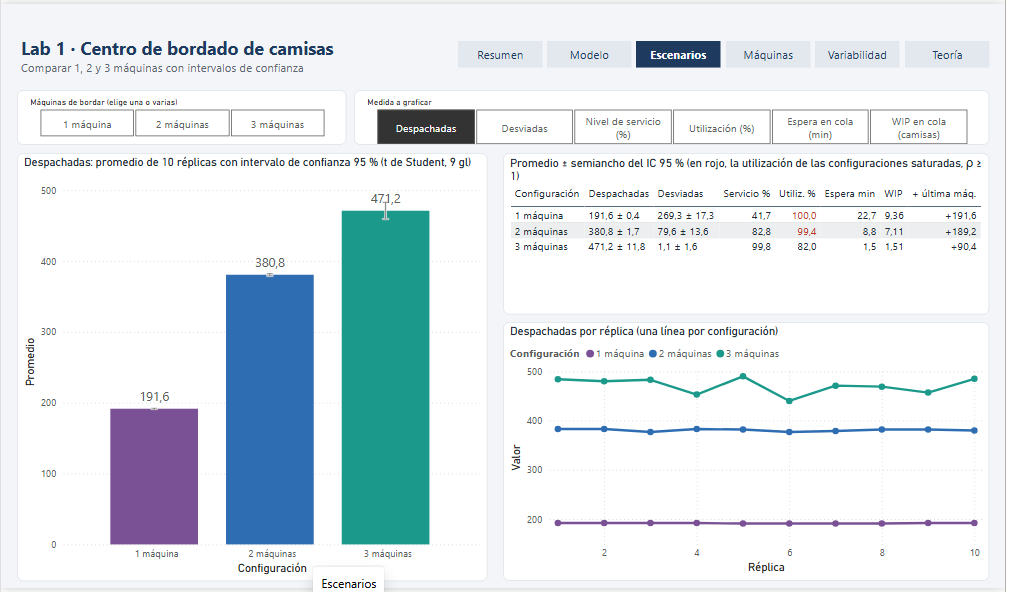

This screenshot's page, from the dashboard's own definition file:
{"tool":"powerbi","page":{"name":"Escenarios","canvas":[1280,720],"ordinal":2},"visuals":[{"type":"textbox","box":[20,10,520,62],"z":1000},{"type":"actionButton","box":[582,22,108,34],"z":2000},{"type":"actionButton","box":[696,22,108,34],"z":3000},{"type":"actionButton","box":[810,22,108,34],"z":4000},{"type":"actionButton","box":[924,22,108,34],"z":5000},{"type":"actionButton","box":[1038,22,108,34],"z":6000},{"type":"actionButton","box":[1152,22,108,34],"z":7000},{"type":"slicer","fields":{"Values":["Resultados.Configuracion"]},"box":[20,84,420,70],"z":8000},{"type":"slicer","fields":{"Values":["Medida.Medida"]},"box":[450,84,810,70],"z":9000},{"type":"clusteredColumnChart","fields":{"Category":["Resultados.Configuracion"],"Y":["Resultados.Valor medida"]},"box":[20,164,600,546],"z":10000},{"type":"tableEx","title":"Promedio ± semiancho del IC 95 % (en rojo, la utilización de las configuraciones saturadas, ρ ≥ 1)","fields":{"Values":["Resultados.Configuracion","Resultados.IC Despachadas","Resultados.IC Desviadas","Resultados.Prom Nivel servicio","Resultados.Prom Utilizacion_pct","Resultados.Prom Espera cola","Resultados.Prom WIP cola","Resultados.Aporte marginal"]},"box":[640,164,620,206],"z":11000},{"type":"lineChart","fields":{"Category":["Resultados.Replica"],"Y":["Resultados.Valor medida"],"Series":["Resultados.Configuracion"]},"box":[640,380,620,330],"z":12000}]}

Visuals, with their boxes on the page's 1280x720 design canvas (x1, y1, x2, y2). These are canvas units, not pixel positions in the 1010x592 screenshot, which may show the page scaled, cropped or inside an application window:
textbox: crop(20, 10, 540, 72)
actionButton: crop(582, 22, 690, 56)
actionButton: crop(696, 22, 804, 56)
actionButton: crop(810, 22, 918, 56)
actionButton: crop(924, 22, 1032, 56)
actionButton: crop(1038, 22, 1146, 56)
actionButton: crop(1152, 22, 1260, 56)
slicer - Resultados.Configuracion: crop(20, 84, 440, 154)
slicer - Medida.Medida: crop(450, 84, 1260, 154)
clusteredColumnChart - Resultados.Configuracion x Resultados.Valor medida: crop(20, 164, 620, 710)
"Promedio ± semiancho del IC 95 % (en rojo, la utilización de las configuraciones saturadas, ρ ≥ 1)" tableEx: crop(640, 164, 1260, 370)
lineChart - Resultados.Replica x Resultados.Valor medida: crop(640, 380, 1260, 710)
